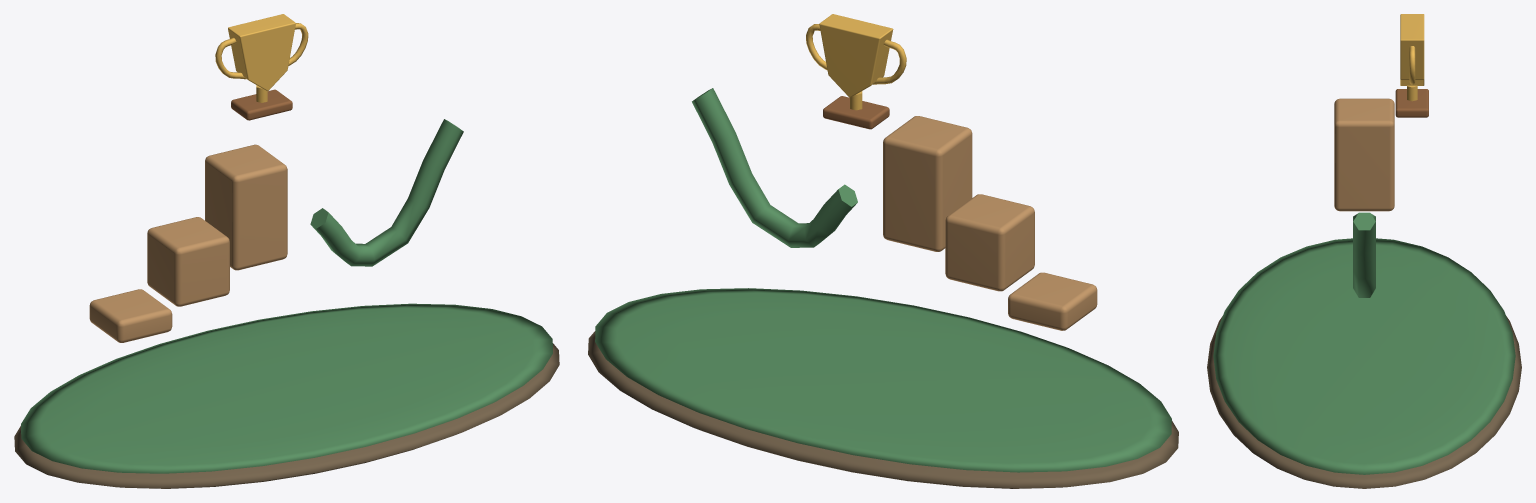
The model's file is complete-third-highest-good-choice.glb.
The picture shows the model from 3 angles, left to right: view 1: azimuth 30°, elevation 25°; view 2: azimuth 150°, elevation 25°; view 3: azimuth 270°, elevation 25°; orthographic projection. The views are drawn at different scales.
Parts seen in each view (by area): view 1: complete-third-highest-good-choice_surface_01, complete-third-highest-good-choice_surface_02, complete-third-highest-good-choice_surface_00, complete-third-highest-good-choice_surface_03, complete-third-highest-good-choice_surface_04; view 2: complete-third-highest-good-choice_surface_01, complete-third-highest-good-choice_surface_02, complete-third-highest-good-choice_surface_00, complete-third-highest-good-choice_surface_03, complete-third-highest-good-choice_surface_04; view 3: complete-third-highest-good-choice_surface_01, complete-third-highest-good-choice_surface_02, complete-third-highest-good-choice_surface_00, complete-third-highest-good-choice_surface_03, complete-third-highest-good-choice_surface_04.
Part boxes in pixels (x1=…): complete-third-highest-good-choice_surface_01: x1=21, y1=119, x2=552, y2=473; complete-third-highest-good-choice_surface_02: x1=89, y1=144, x2=287, y2=342; complete-third-highest-good-choice_surface_00: x1=14, y1=343, x2=559, y2=488; complete-third-highest-good-choice_surface_03: x1=215, y1=14, x2=308, y2=102; complete-third-highest-good-choice_surface_04: x1=231, y1=89, x2=292, y2=120; complete-third-highest-good-choice_surface_01: x1=595, y1=88, x2=1171, y2=472; complete-third-highest-good-choice_surface_02: x1=883, y1=116, x2=1097, y2=330; complete-third-highest-good-choice_surface_00: x1=588, y1=331, x2=1178, y2=488; complete-third-highest-good-choice_surface_03: x1=806, y1=14, x2=906, y2=110; complete-third-highest-good-choice_surface_04: x1=823, y1=96, x2=889, y2=129; complete-third-highest-good-choice_surface_01: x1=1213, y1=212, x2=1515, y2=474; complete-third-highest-good-choice_surface_02: x1=1334, y1=98, x2=1394, y2=211; complete-third-highest-good-choice_surface_00: x1=1207, y1=316, x2=1521, y2=488; complete-third-highest-good-choice_surface_03: x1=1400, y1=14, x2=1424, y2=101; complete-third-highest-good-choice_surface_04: x1=1395, y1=89, x2=1428, y2=117.
Bounding box in the file's own units: 4.56 × 3.11 × 2.5.
